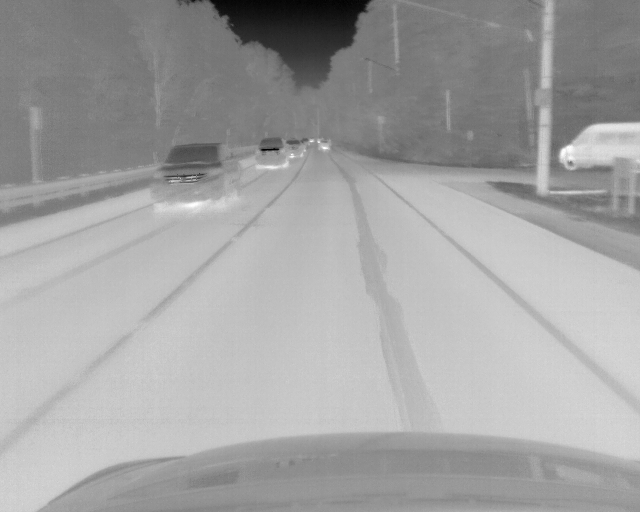car: (150, 143, 245, 207), (559, 122, 640, 172), (257, 137, 289, 168), (287, 139, 304, 159), (317, 137, 332, 152)
